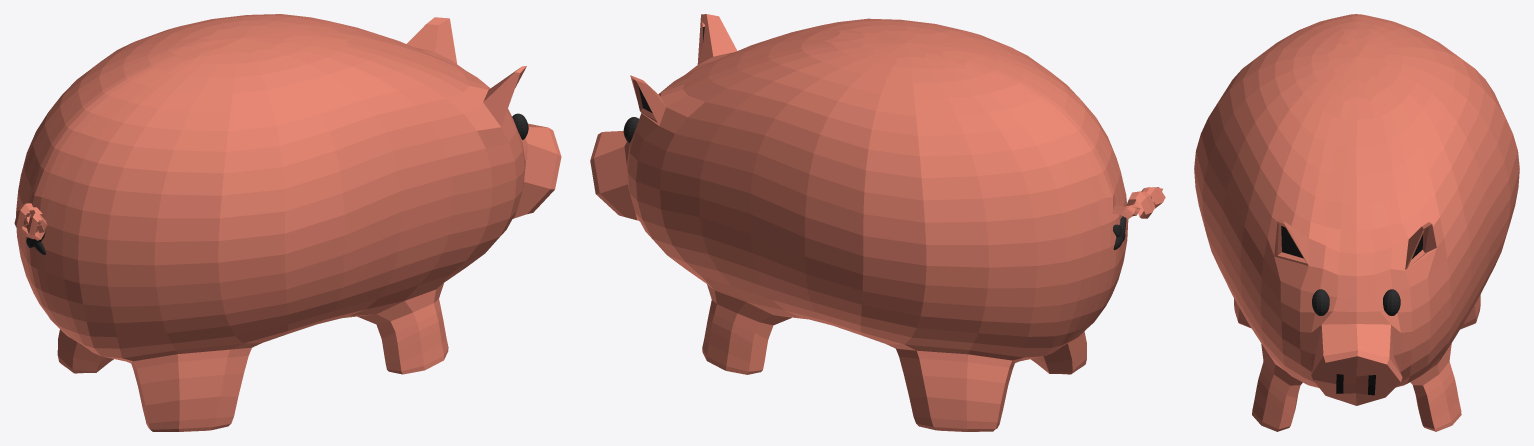
File: pig.fbx
The picture shows the model from 3 angles, left to right: view 1: azimuth 30°, elevation 25°; view 2: azimuth 150°, elevation 25°; view 3: azimuth 270°, elevation 25°; orthographic projection. The views are drawn at different scales.
Visible parts, largest first — view 1: тело, SpiroFit; view 2: тело, SpiroFit; view 3: тело, глаза.
Boxes of the visible parts, x1,y1,x2,y2 form: тело: (16, 14, 561, 431); SpiroFit: (14, 203, 47, 240); тело: (590, 14, 1128, 431); SpiroFit: (1112, 187, 1165, 218); тело: (1194, 14, 1519, 431); глаза: (1312, 289, 1400, 315).
Size of the model in its own units: 149 by 87.22 by 82.12.
